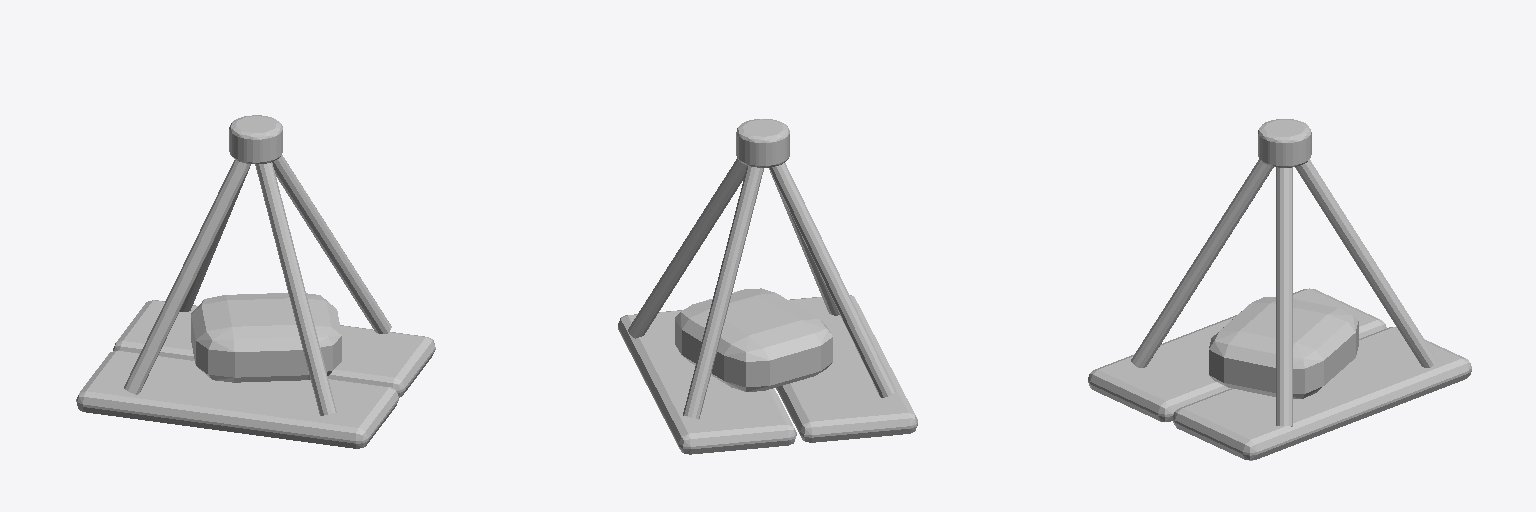
The model's file is SM_carriere_Platform.obj.
3 renders of one model, left to right at view 1: azimuth 30°, elevation 25°; view 2: azimuth 150°, elevation 25°; view 3: azimuth 270°, elevation 25°, orthographic.
Visible parts, largest first — view 1: SM_carriere_v02.001; view 2: SM_carriere_v02.001; view 3: SM_carriere_v02.001.
Part boxes in pixels (x1,y1,x2,y2): SM_carriere_v02.001: (76,115,435,448); SM_carriere_v02.001: (618,119,917,454); SM_carriere_v02.001: (1088,119,1471,460).
Bounding box in the file's own units: 1.32 × 0.9896 × 1.34.